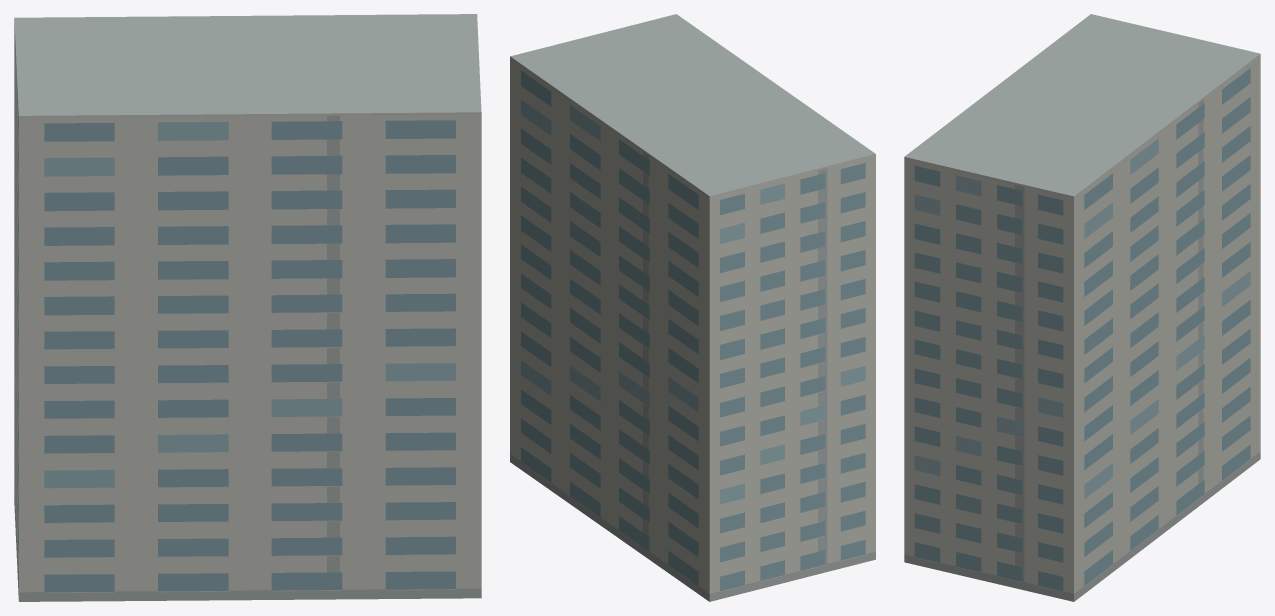
File: residential-613e5d64-2e70-4da1-a52c-33f1133d0740.glb
3 renders of one model, left to right at view 1: azimuth 30°, elevation 25°; view 2: azimuth 150°, elevation 25°; view 3: azimuth 270°, elevation 25°, orthographic. The views are drawn at different scales.
Parts seen in each view (by area): view 1: residential-613e5d64-2e70-4da1-a52c-33f1133d0740.tmp; view 2: residential-613e5d64-2e70-4da1-a52c-33f1133d0740.tmp; view 3: residential-613e5d64-2e70-4da1-a52c-33f1133d0740.tmp.
Boxes of the visible parts, x1=… form: residential-613e5d64-2e70-4da1-a52c-33f1133d0740.tmp: x1=14, y1=14, x2=481, y2=601; residential-613e5d64-2e70-4da1-a52c-33f1133d0740.tmp: x1=510, y1=14, x2=875, y2=601; residential-613e5d64-2e70-4da1-a52c-33f1133d0740.tmp: x1=904, y1=14, x2=1260, y2=601.
Bounding box in the file's own units: 48.26 × 50 × 39.85.
